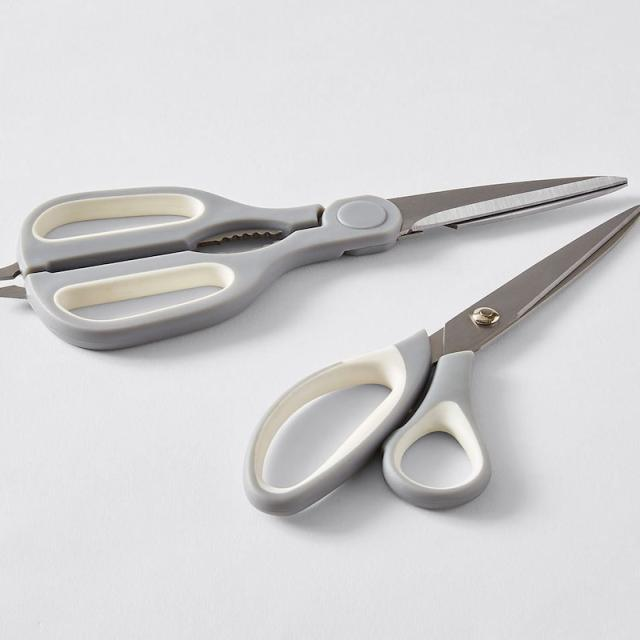scissor: (233, 239, 640, 511)
